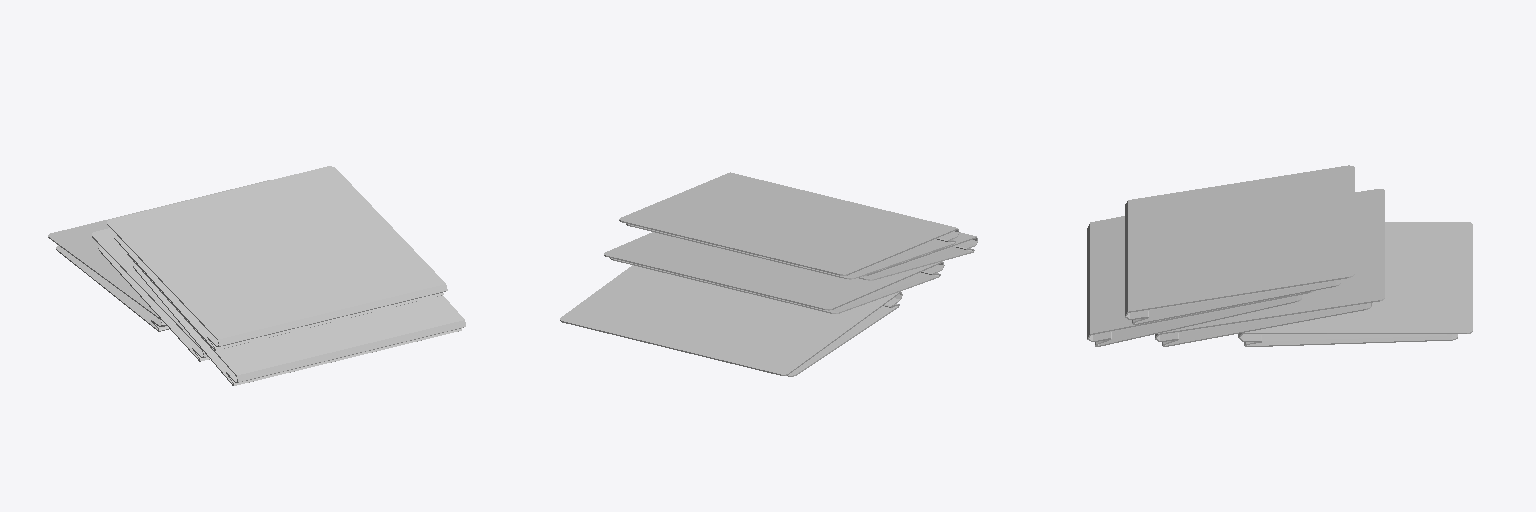
File: folder.obj
3 renders of one model, left to right at view 1: azimuth 30°, elevation 25°; view 2: azimuth 150°, elevation 25°; view 3: azimuth 270°, elevation 25°, orthographic.
Parts seen in each view (by area): view 1: folders:polySurface1 group; view 2: folders:polySurface1 group; view 3: folders:polySurface1 group.
Part boxes in pixels (left/top/right/bottom): folders:polySurface1 group: left=48, top=166, right=465, bottom=385; folders:polySurface1 group: left=560, top=172, right=977, bottom=376; folders:polySurface1 group: left=1087, top=165, right=1472, bottom=346.
Bounding box in the file's own units: 9.02 × 2.7 × 13.19.